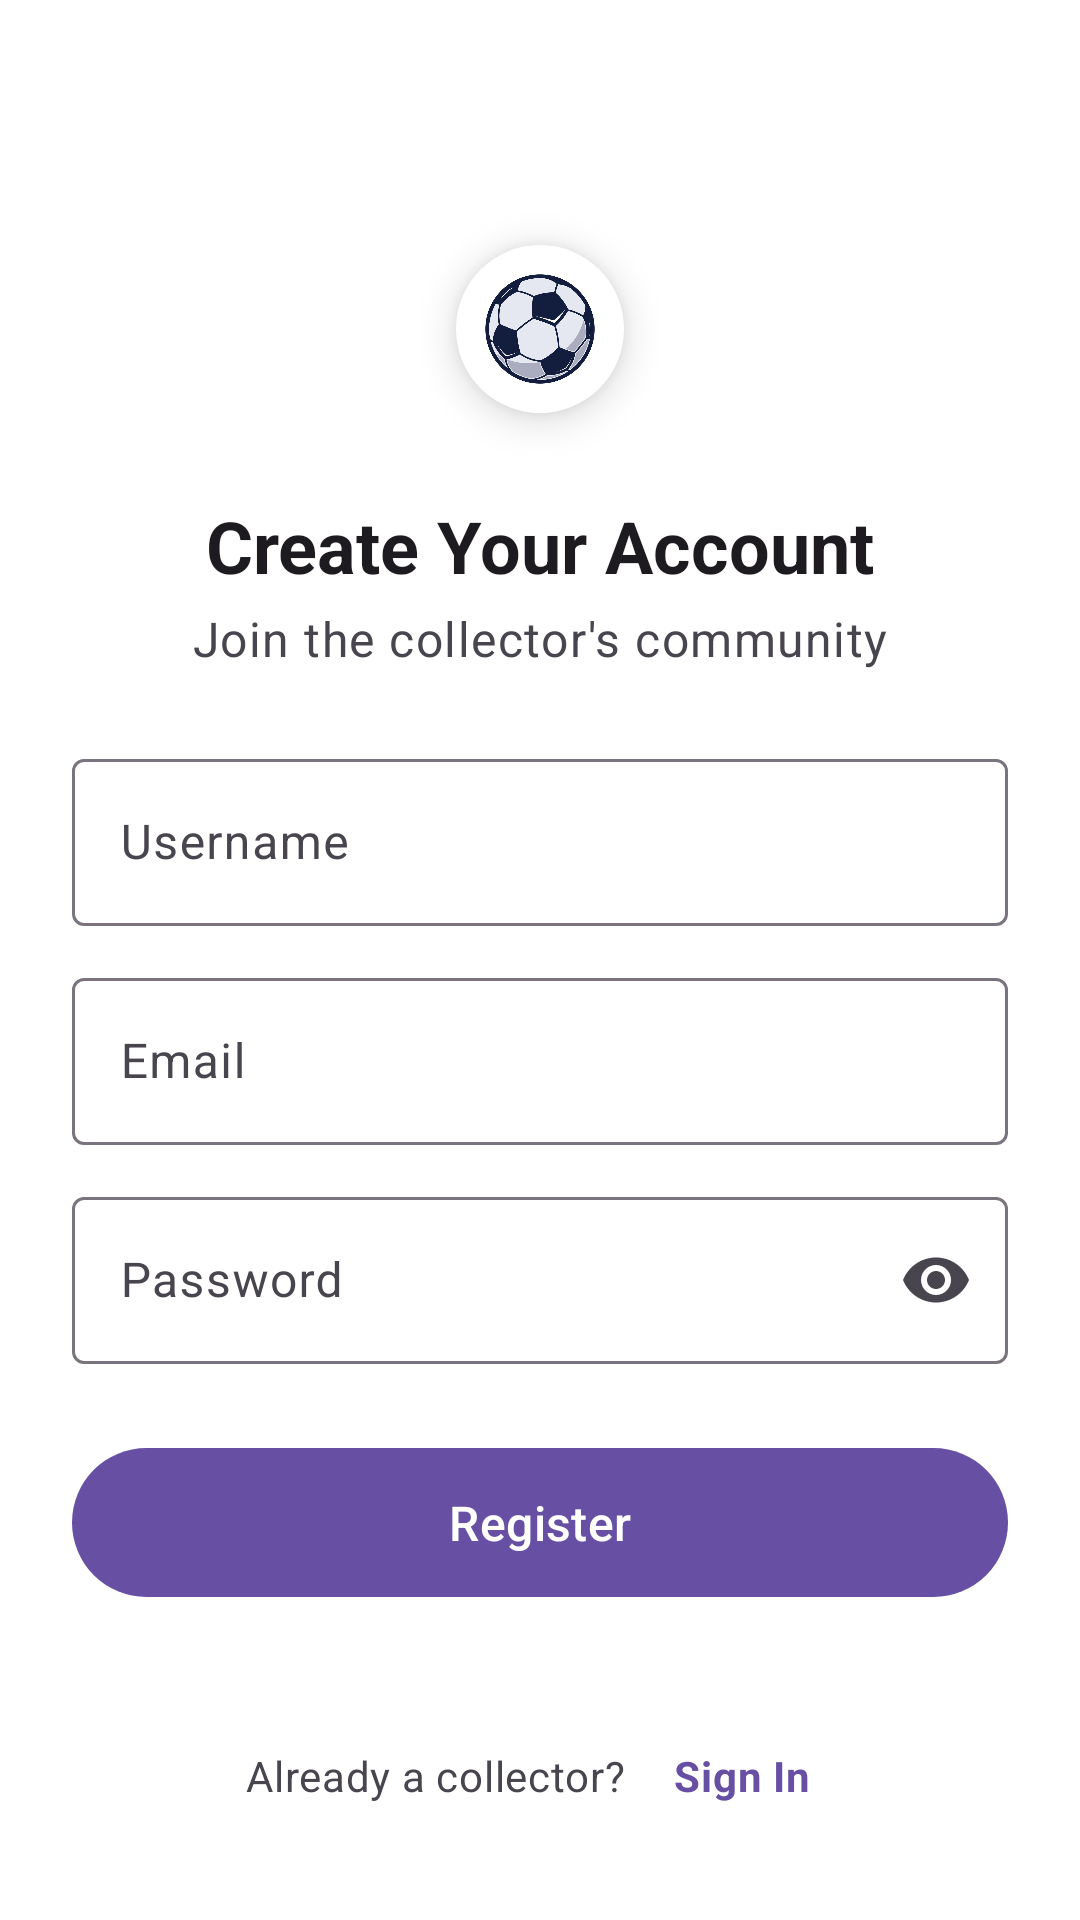

Named icons in this screenshot (1080x1920) and their centers, (x,y):
soccer ball: (540,345)
